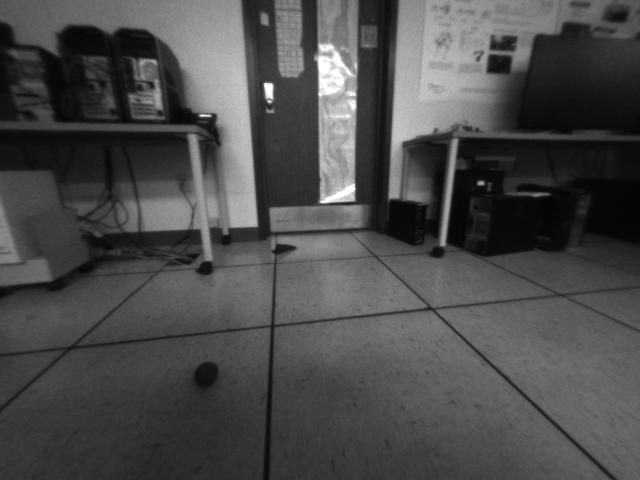dogtoy: (190, 354, 226, 393)
